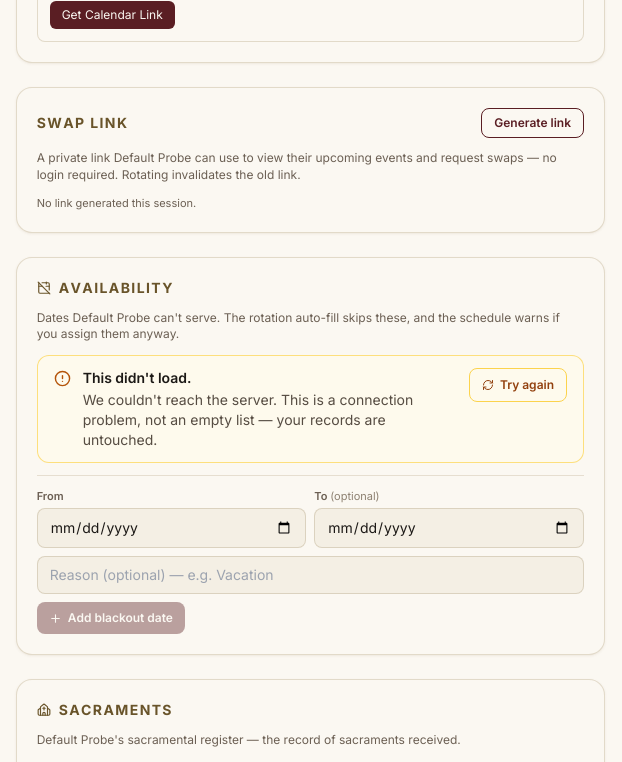
Test: R310-2 availability: an older read never overwrites a newer one › older EMPTY retry landing after the newer populated refresh does not erase the added blackout
(page scrolled)
Expected: the text "This didn't load." is shown, [83,369,192,386]
Click the button "Try again".
click(518, 385)  # box [469,368,567,402]
(page scrolled)
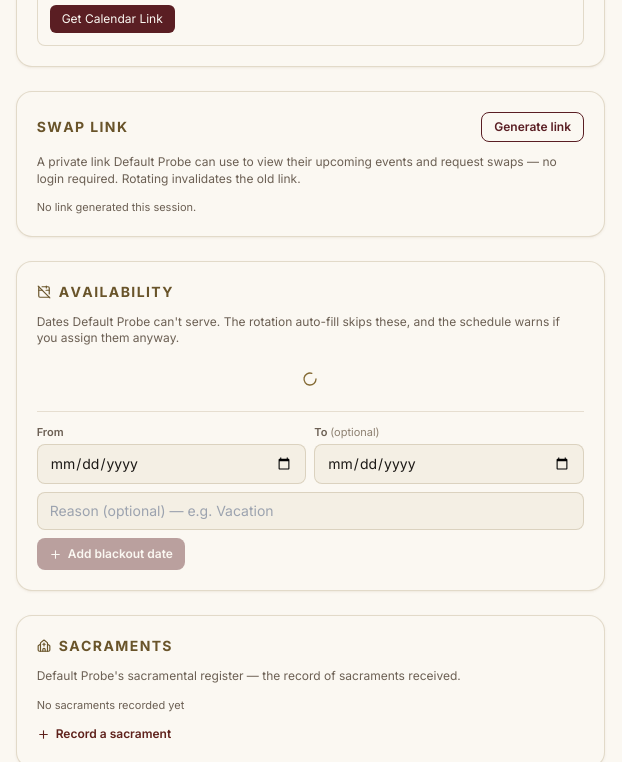
Type "2026-12-24" into the date field below "From".
click(172, 464); type("2026-12-24")  # box [37,444,306,484]
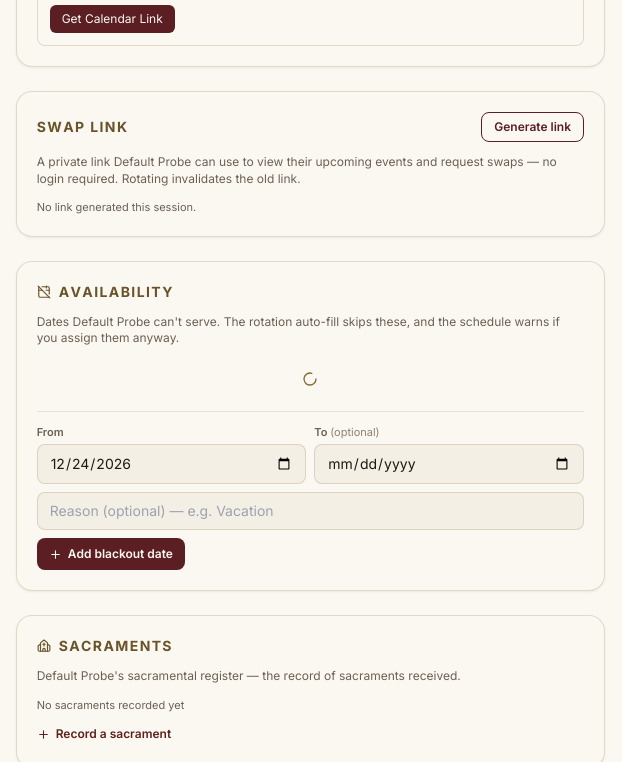
Submit the form "From To (optional) Add blackout date", box [37,411,584,570]
(page scrolled)
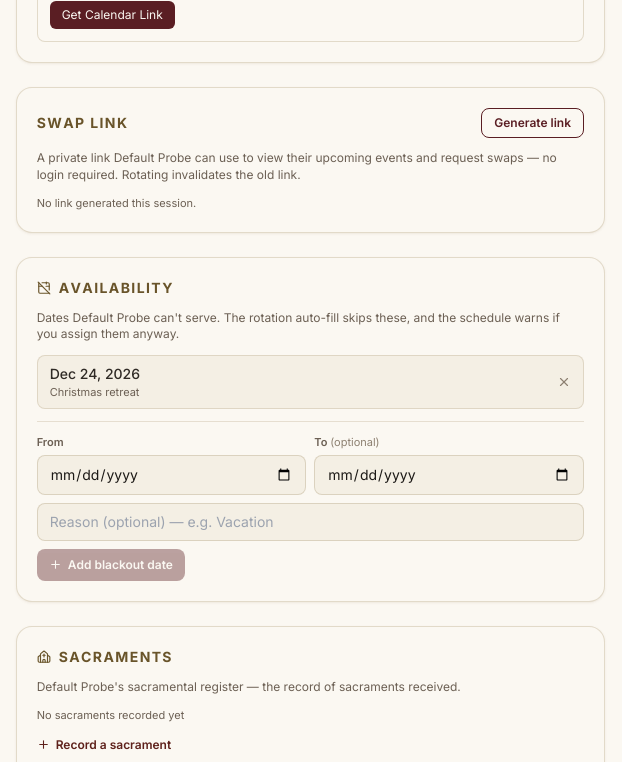
Expected: the text "This didn't load." is not shown
Expected: the text "Christmas retreat" is shown, [50,384,140,400]
